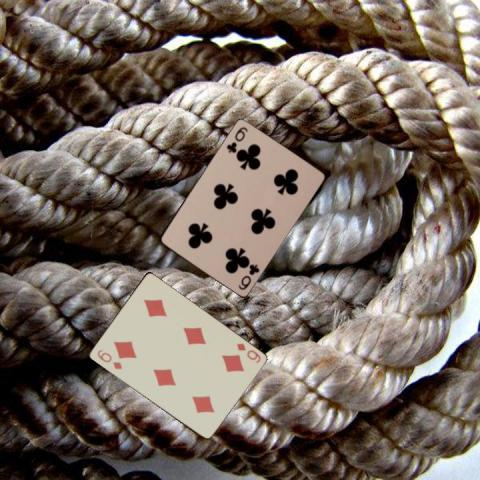6c: (224, 123, 250, 154), (235, 261, 261, 291)
6d: (233, 340, 262, 365), (94, 346, 123, 370)
